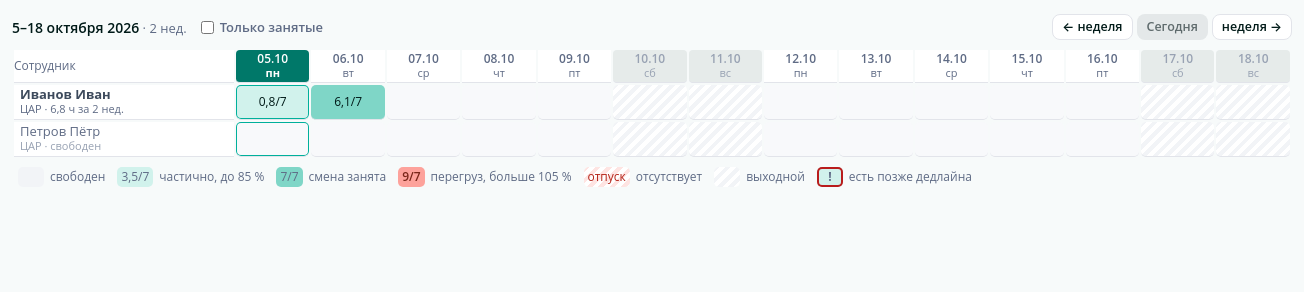
Test: панель дня показывает часть операции в этот день и всё окно отдельной строкой
Click the button named "Загрузка Иванов Иван 05.10" at (273, 102), box top-left (236, 85), bottom-right (309, 119)
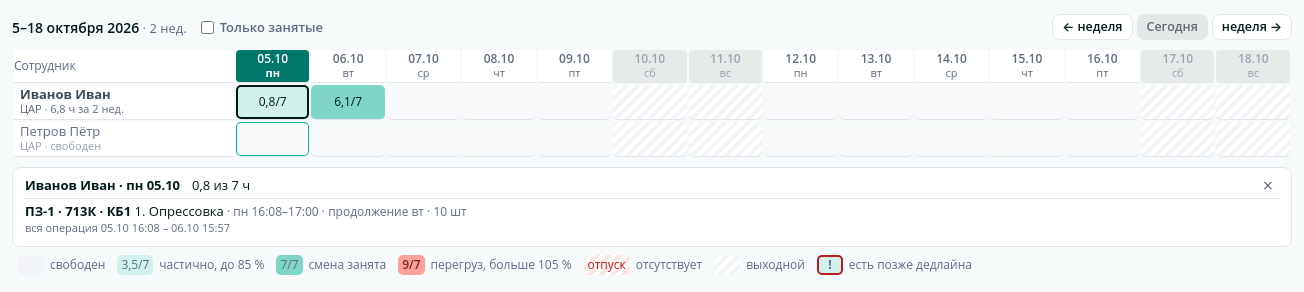
Expected: the element named "Что в дне: Иванов Иван, 05.10" shows "16:08–17:00", top-left (233, 202), bottom-right (424, 220)
Expected: the element named "Что в дне: Иванов Иван, 05.10" shows "продолжение вт", top-left (233, 202), bottom-right (424, 220)
Expected: the element named "Что в дне: Иванов Иван, 05.10" shows "вся операция 05.10 16:08 – 06.10 15:57", top-left (12, 166), bottom-right (1292, 246)
